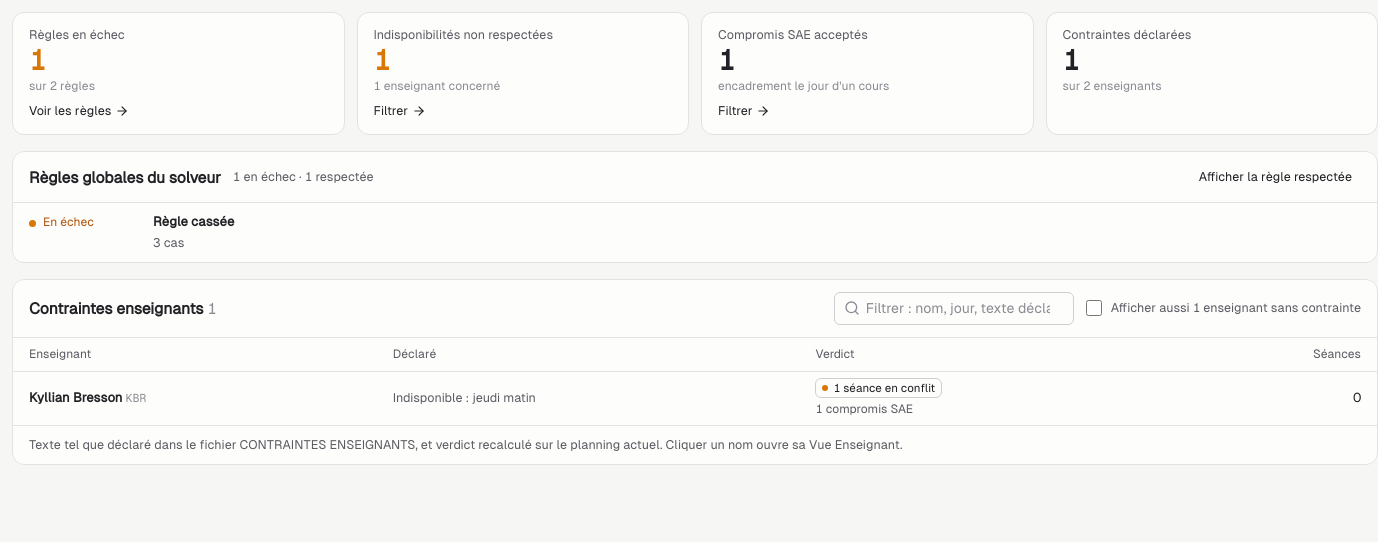
ContraintesView › lists failing rules first and folds the passing ones
Check: the text "Règle cassée" is shown, box [153,214,234,229]
Check: the text "Règle tenue" is not shown
Click the button "Afficher la règle respectée" at (1275, 177), box [1190,164,1361,190]
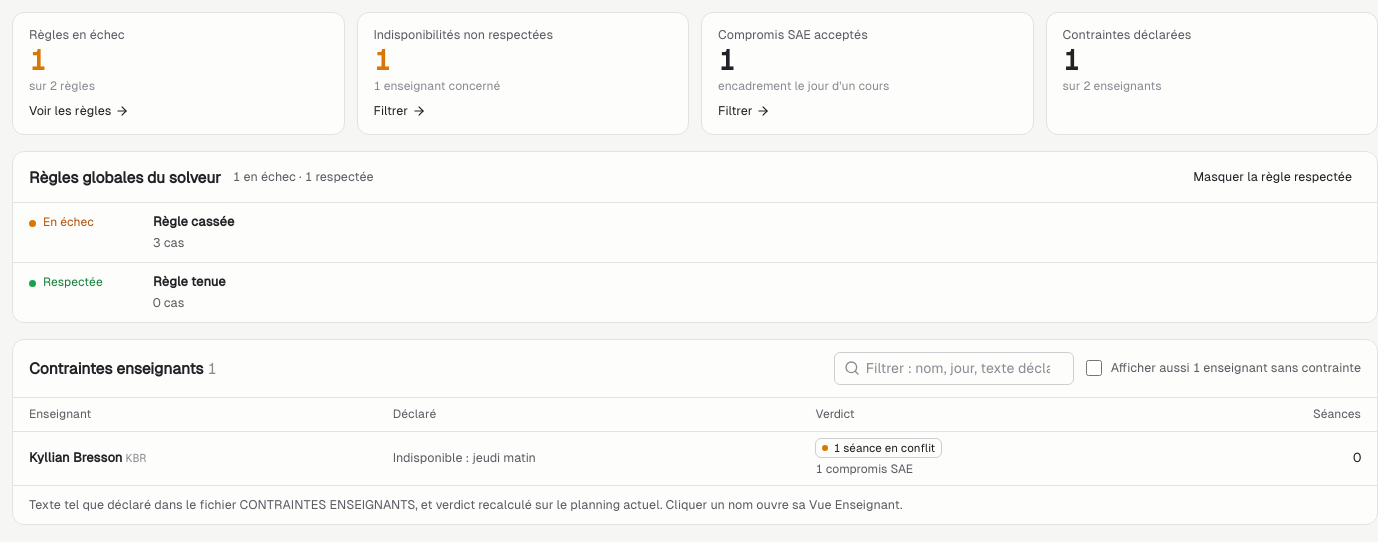
Check: the text "Règle tenue" is shown, box [153,274,226,289]
